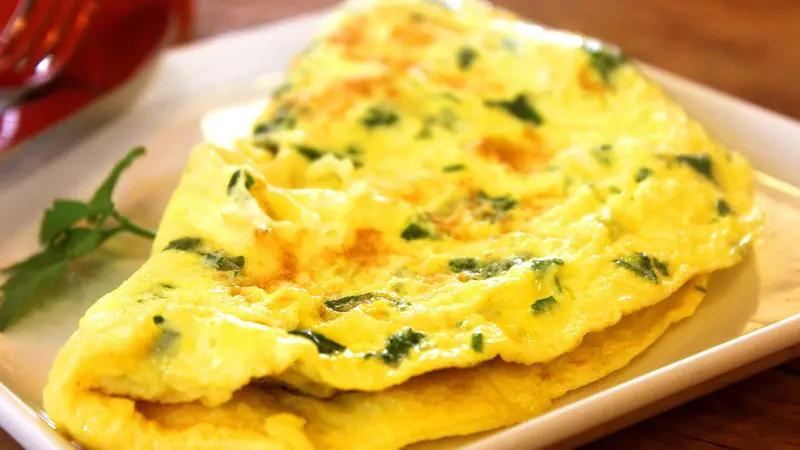telur: (272, 98, 597, 375)
